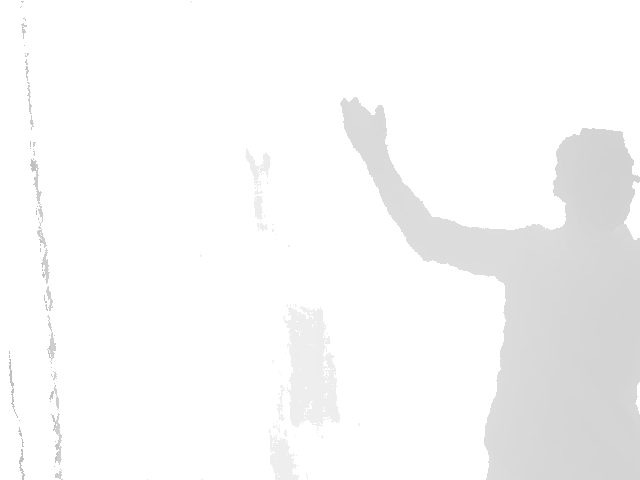hand: (339, 95, 389, 153)
head: (551, 126, 640, 236)
person: (339, 95, 640, 480)
